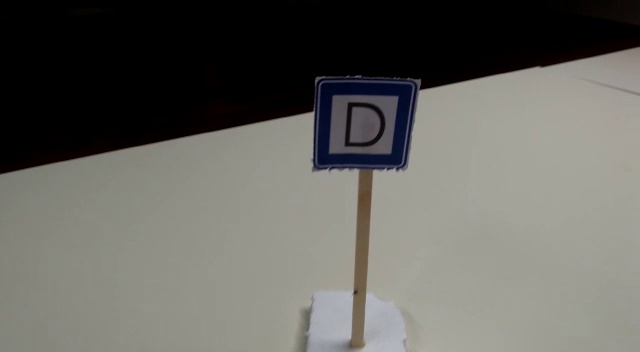durak: (312, 78, 416, 171)
